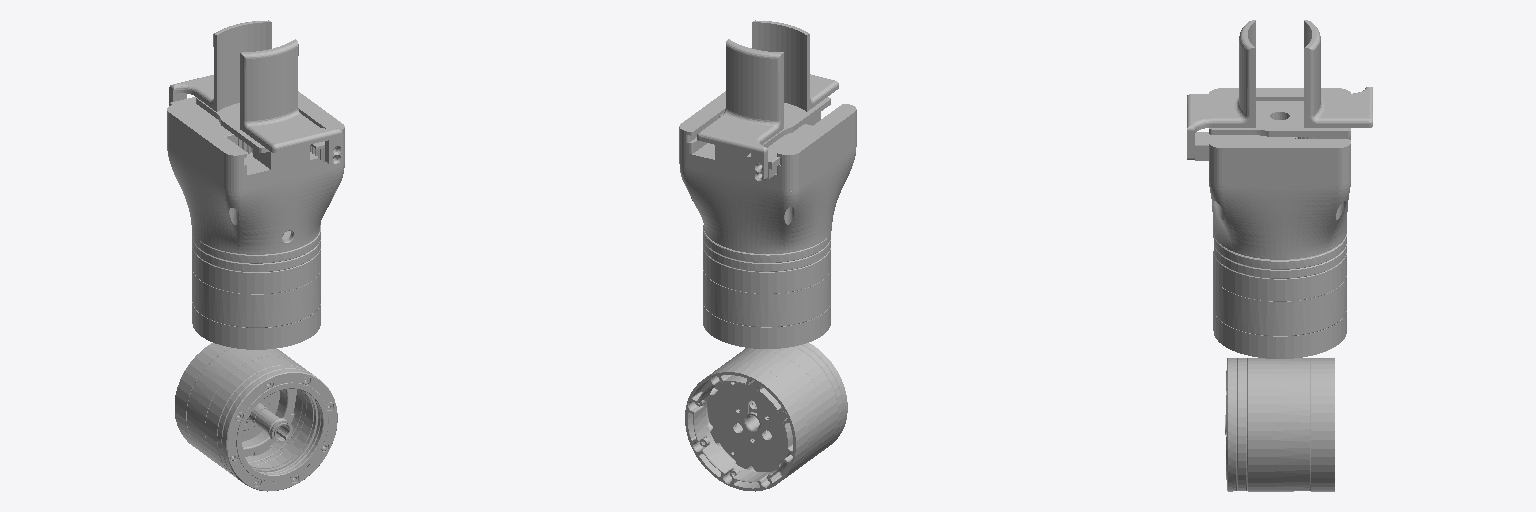
robot.urdf — igus_rebel:
<?xml version="1.0" encoding="utf-8"?>
<robot
  name="igus_rebel">
  <!-- file://$(find igus_rebel_description) ===>>> package:// -->
  <link
    name="base_link">
    <inertial>
      <origin
        xyz="-0.0011101 -0.00059494 0.040917"
        rpy="0 0 0" />
      <mass
        value="4.2944" />
      <inertia
        ixx="0.098117"
        ixy="4.4465E-07"
        ixz="3.3605E-05"
        iyy="0.086593"
        iyz="-1.8837E-06"
        izz="0.12838" />
    </inertial>
    <visual>
      <origin
        xyz="0 0 0"
        rpy="0 0 0" />
      <geometry>
        <mesh
          filename="package://igus_rebel_description/meshes/base_link.dae" />
      </geometry>
      <material
        name="">
        <color
          rgba="0.75294 0.75294 0.75294 1" />
      </material>
    </visual>
    <collision>
      <origin
        xyz="0 0 0.05"
        rpy="0 0 0" />
      <geometry>
        <cylinder radius="0.09" length="0.1"/>
      </geometry>
    </collision>
  </link>
  <link
    name="motor1">
    <inertial>
      <origin
        xyz="0.00015243 0.00010812 -0.014668"
        rpy="0 0 0" />
      <mass
        value="2" />
      <inertia
        ixx="0.024041"
        ixy="8.3398E-08"
        ixz="-7.2533E-07"
        iyy="0.024081"
        iyz="-6.2967E-07"
        izz="0.037427" />
    </inertial>
    <visual>
      <origin
        xyz="0 0 0"
        rpy="0 0 0" />
      <geometry>
        <mesh
          filename="package://igus_rebel_description/meshes/motor1.dae" />
      </geometry>
      <material
        name="">
        <color
          rgba="0.75294 0.75294 0.75294 1" />
      </material>
    </visual>
    <collision>
      <origin
        xyz="0 0 -0.0125"
        rpy="0 0 0" />
      <geometry>
        <cylinder radius="0.05" length="0.065"/>
      </geometry>
    </collision>
  </link>
  <joint
    name="J_motor1"
    type="fixed">
    <origin
      xyz="0 0 0.1462"
      rpy="0 0 3.1416" />
    <parent
      link="base_link" />
    <child
      link="motor1" />
    <axis
      xyz="0 0 0" />
  </joint>
  <link
    name="link1">
    <inertial>
      <origin
        xyz="2.5064E-06 -0.031151 0.06301"
        rpy="0 0 0" />
      <mass
        value="1.9246" />
      <inertia
        ixx="0.046865"
        ixy="-3.7969E-09"
        ixz="5.1665E-09"
        iyy="0.04904"
        iyz="0.00010721"
        izz="0.030611" />
    </inertial>
    <visual>
      <origin
        xyz="0 0 0"
        rpy="0 0 0" />
      <geometry>
        <mesh
          filename="package://igus_rebel_description/meshes/link1.dae" />
      </geometry>
      <material
        name="">
        <color
          rgba="0.79216 0.81961 0.93333 1" />
      </material>
    </visual>
    <collision>
      <origin
        xyz="0 -0.045 0.08"
        rpy="0 0 0" />
      <geometry>
        <box size="0.1 0.03 0.1"/>
      </geometry>
    </collision>
  </link>
  <joint
    name="joint1"
    type="revolute">
    <origin
      xyz="0 0 0"
      rpy="0 0 0" />
    <parent
      link="motor1" />
    <child
      link="link1" />
    <axis
      xyz="0 0 1" />
    <limit
      lower="-3.1241"
      upper="3.1241"
      effort="330"
      velocity="2.16" />
    <dynamics
      damping="0.0"
      friction="0.0" />
  </joint>
  <link
    name="motor2">
    <inertial>
      <origin
        xyz="0.00015243 0.014668 0.00010812"
        rpy="0 0 0" />
      <mass
        value="2" />
      <inertia
        ixx="0.024041"
        ixy="7.2533E-07"
        ixz="8.3398E-08"
        iyy="0.037427"
        iyz="6.2967E-07"
        izz="0.024081" />
    </inertial>
    <visual>
      <origin
        xyz="0 0 0"
        rpy="0 0 0" />
      <geometry>
        <mesh
          filename="package://igus_rebel_description/meshes/motor2.dae" />
      </geometry>
      <material
        name="">
        <color
          rgba="0.75294 0.75294 0.75294 1" />
      </material>
    </visual>
    <collision>
      <origin
        xyz="0 0.0125 0"
        rpy="1.57079 0 0" />
      <geometry>
        <cylinder radius="0.05" length="0.065"/>
      </geometry>
    </collision>
  </link>
  <joint
    name="J_motor2"
    type="fixed">
    <origin
      xyz="0 -0.0225000000000001 0.106"
      rpy="0 0 0" />
    <parent
      link="link1" />
    <child
      link="motor2" />
    <axis
      xyz="0 0 0" />
  </joint>
  <link
    name="link2">
    <inertial>
      <origin
        xyz="0.023424 0.025337 0.10782"
        rpy="0 0 0" />
      <mass
        value="5.689" />
      <inertia
        ixx="0.1162"
        ixy="-2.0164E-11"
        ixz="-0.00018569"
        iyy="0.10155"
        iyz="5.9595E-10"
        izz="0.08965" />
    </inertial>
    <visual>
      <origin
        xyz="0 0 0"
        rpy="0 0 0" />
      <geometry>
        <mesh
          filename="package://igus_rebel_description/meshes/link2.dae" />
      </geometry>
      <material
        name="">
        <color
          rgba="0.75294 0.75294 0.75294 1" />
      </material>
    </visual>
    <collision>
      <origin
        xyz="0.05 -0.025 0.12"
        rpy="0 0 0" />
      <geometry>
        <cylinder radius="0.06" length="0.18"/>
      </geometry>
    </collision>
  </link>
  <joint
    name="joint2"
    type="revolute">
    <origin
      xyz="0 0.049 0"
      rpy="0 0 0" />
    <parent
      link="motor2" />
    <child
      link="link2" />
    <axis
      xyz="0 -1 0" />
    <limit
      lower="-1.4835"
      upper="2.4435"
      effort="330"
      velocity="2.16" />
    <dynamics
      damping="0.0"
      friction="0.0" />
  </joint>
  <link
    name="motor3">
    <inertial>
      <origin
        xyz="0.00015243 0.014668 0.00010812"
        rpy="0 0 0" />
      <mass
        value="2.0785" />
      <inertia
        ixx="0.024041"
        ixy="7.2533E-07"
        ixz="8.3398E-08"
        iyy="0.037427"
        iyz="6.2967E-07"
        izz="0.024081" />
    </inertial>
    <visual>
      <origin
        xyz="0 0 0"
        rpy="0 0 0" />
      <geometry>
        <mesh
          filename="package://igus_rebel_description/meshes/motor3.dae" />
      </geometry>
      <material
        name="">
        <color
          rgba="0.75294 0.75294 0.75294 1" />
      </material>
    </visual>
    <collision>
      <origin
        xyz="0 0.0125 0"
        rpy="1.57079 0 0" />
      <geometry>
        <cylinder radius="0.05" length="0.065"/>
      </geometry>
    </collision>
  </link>
  <joint
    name="J_motor3"
    type="fixed">
    <origin
      xyz="0 -0.049 0.24152"
      rpy="0 0 0" />
    <parent
      link="link2" />
    <child
      link="motor3" />
    <axis
      xyz="0 0 0" />
  </joint>
  <link
    name="link3">
    <inertial>
      <origin
        xyz="1.8683E-06 0.030601 0.032537"
        rpy="0 0 0" />
      <mass
        value="2.5429" />
      <inertia
        ixx="0.051458"
        ixy="3.7774E-09"
        ixz="-4.5694E-09"
        iyy="0.057983"
        iyz="0.00010721"
        izz="0.035205" />
    </inertial>
    <visual>
      <origin
        xyz="0 0 0"
        rpy="0 0 0" />
      <geometry>
        <mesh
          filename="package://igus_rebel_description/meshes/link3.dae" />
      </geometry>
      <material
        name="">
        <color
          rgba="0.75294 0.75294 0.75294 1" />
      </material>
    </visual>
    <collision>
      <origin
        xyz="0 0.045 0.03"
        rpy="0 0 0" />
      <geometry>
        <box size="0.1 0.03 0.1"/>
      </geometry>
    </collision>
  </link>
  <joint
    name="joint3"
    type="revolute">
    <origin
      xyz="0 0.0225 0"
      rpy="0 0 0" />
    <parent
      link="motor3" />
    <child
      link="link3" />
    <axis
      xyz="0 -1 0" />
    <limit
      lower="-1.39626"
      upper="2.61799"
      effort="330"
      velocity="2.16" />
    <dynamics
      damping="0.0"
      friction="0.0" />
  </joint>
  <link
    name="motor4">
    <inertial>
      <origin
        xyz="0.00015243 -0.00010812 0.014668"
        rpy="0 0 0" />
      <mass
        value="2.0785" />
      <inertia
        ixx="0.024041"
        ixy="-8.3398E-08"
        ixz="7.2533E-07"
        iyy="0.024081"
        iyz="-6.2967E-07"
        izz="0.037427" />
    </inertial>
    <visual>
      <origin
        xyz="0 0 0"
        rpy="0 0 0" />
      <geometry>
        <mesh
          filename="package://igus_rebel_description/meshes/motor4.dae" />
      </geometry>
      <material
        name="">
        <color
          rgba="0.75294 0.75294 0.75294 1" />
      </material>
    </visual>
    <collision>
      <origin
        xyz="0 0 0.0125"
        rpy="0 0 0" />
      <geometry>
        <cylinder radius="0.05" length="0.065"/>
      </geometry>
    </collision>
  </link>
  <joint
    name="J_motor4"
    type="fixed">
    <origin
      xyz="0.0013449814287804 0 0.105479407401356"
      rpy="0 0 0" />
    <parent
      link="link3" />
    <child
      link="motor4" />
    <axis
      xyz="0 0 0" />
  </joint>
  <link
    name="link4">
    <inertial>
      <origin
        xyz="-0.0070458 -0.00089773 0.05185"
        rpy="0 0 0" />
      <mass
        value="2.2059" />
      <inertia
        ixx="0.02402"
        ixy="1.096E-07"
        ixz="2.3983E-05"
        iyy="0.025662"
        iyz="-1.1343E-06"
        izz="0.030673" />
    </inertial>
    <visual>
      <origin
        xyz="0 0 0"
        rpy="0 0 0" />
      <geometry>
        <mesh
          filename="package://igus_rebel_description/meshes/link4.dae" />
      </geometry>
      <material
        name="">
        <color
          rgba="0.75294 0.75294 0.75294 1" />
      </material>
    </visual>
    <collision>
      <origin
        xyz="0 0 0.044"
        rpy="0 0 0" />
      <geometry>
        <cylinder radius="0.05" length="0.1"/>
      </geometry>
    </collision>
  </link>
  <joint
    name="joint4"
    type="revolute">
    <origin
      xyz="0 0 0.052"
      rpy="0 0 0" />
    <parent
      link="motor4" />
    <child
      link="link4" />
    <axis
      xyz="0 0 1" />
    <limit
      lower="-3.12414"
      upper="3.12414"
      effort="330"
      velocity="2.16" />
    <dynamics
      damping="0.0"
      friction="0.0" />
  </joint>
  <link
    name="motor5">
    <inertial>
      <origin
        xyz="3.9518E-05 0.02054 -0.00015792"
        rpy="0 0 0" />
      <mass
        value="1.3011" />
      <inertia
        ixx="0.010922"
        ixy="3.1358E-08"
        ixz="1.683E-08"
        iyy="0.014448"
        iyz="-3.8659E-08"
        izz="0.010868" />
    </inertial>
    <visual>
      <origin
        xyz="0 0 0"
        rpy="0 0 0" />
      <geometry>
        <mesh
          filename="package://igus_rebel_description/meshes/motor5.dae" />
      </geometry>
      <material
        name="">
        <color
          rgba="0.75294 0.75294 0.75294 1" />
      </material>
    </visual>
    <collision>
      <origin
        xyz="0 0.0125 0"
        rpy="1.57079 0 0" />
      <geometry>
        <cylinder radius="0.04" length="0.065"/>
      </geometry>
    </collision>
  </link>
  <joint
    name="J_motor5"
    type="fixed">
    <origin
      xyz="0 -0.0182 0.142"
      rpy="0 0 0" />
    <parent
      link="link4" />
    <child
      link="motor5" />
    <axis
      xyz="0 0 0" />
  </joint>
  <link
    name="link5">
    <inertial>
      <origin
        xyz="7.5874E-05 0.022847 0.026585"
        rpy="0 0 0" />
      <mass
        value="0.70922" />
      <inertia
        ixx="0.0091752"
        ixy="-5.1443E-08"
        ixz="-7.751E-09"
        iyy="0.0086093"
        iyz="2.4553E-05"
        izz="0.0079966" />
    </inertial>
    <visual>
      <origin
        xyz="0 0 0"
        rpy="0 0 0" />
      <geometry>
        <mesh
          filename="package://igus_rebel_description/meshes/link5.dae" />
      </geometry>
      <material
        name="">
        <color
          rgba="0.75294 0.75294 0.75294 1" />
      </material>
    </visual>
    <collision>
      <origin
        xyz="0 0.045 0.01"
        rpy="0 0 0" />
      <geometry>
        <box size="0.1 0.03 0.1"/>
      </geometry>
    </collision>
  </link>
  <joint
    name="joint5"
    type="revolute">
    <origin
      xyz="0 0.0182 0"
      rpy="0 0 0" />
    <parent
      link="motor5" />
    <child
      link="link5" />
    <axis
      xyz="0 -1 0" />
    <limit
      lower="-1.65806"
      upper="1.65806"
      effort="330"
      velocity="2.16" />
    <dynamics
      damping="0.0"
      friction="0.0" />
  </joint>
  <link
    name="link6">
    <inertial>
      <origin
        xyz="-0.00016088 -4.7449E-05 0.021219"
        rpy="0 0 0" />
      <mass
        value="1.2658" />
      <inertia
        ixx="0.010763"
        ixy="-2.2861E-07"
        ixz="-4.9144E-08"
        iyy="0.010792"
        iyz="-2.2502E-08"
        izz="0.014496" />
    </inertial>
    <visual>
      <origin
        xyz="0 0 0"
        rpy="0 0 0" />
      <geometry>
        <mesh
          filename="package://igus_rebel_description/meshes/link6.dae" />
      </geometry>
      <material
        name="">
        <color
          rgba="0.75294 0.75294 0.75294 1" />
      </material>
    </visual>
    <collision>
      <origin
        xyz="0 0 0.0125"
        rpy="0 0 0" />
      <geometry>
        <cylinder radius="0.04" length="0.065"/>
      </geometry>
    </collision>
  </link>
  <joint
    name="joint6"
    type="revolute">
    <origin
      xyz="0 0 0.0768"
      rpy="0 0 0" />
    <parent
      link="link5" />
    <child
      link="link6" />
    <axis
      xyz="0 0 1" />
    <limit
      lower="-3.12414"
      upper="3.12414"
      effort="330"
      velocity="2.16" />
    <dynamics
      damping="0.0"
      friction="0.0" />
  </joint>

    <!-- GRIPPER -->
    
    <link
    name="gripper_base">
        <inertial>
            <origin
        xyz="0 0 0"
        rpy="0 0 0" />
            <!-- TODO CHECK ACTUAL MASS AND INERTIA STATS !! -->
            <mass
        value="0.500" />
            <inertia
        ixx="0.010763"
        ixy="-2.2861E-07"
        ixz="-4.9144E-08"
        iyy="0.010792"
        iyz="-2.2502E-08"
        izz="0.014496" />
        </inertial>
        <visual>
            <origin
        xyz="0.003 -0.007 -0.007"
        rpy="0 0 0" />
            <geometry>
                <mesh
          filename="package://igus_rebel_description/meshes/Greifer_Baugruppe.stl" scale="0.001 0.001 0.001" />
            </geometry>
            <material
        name="">
                <color
          rgba="0.75294 0.75294 0.75294 1" />
            </material>
        </visual>
        <collision>
            <origin
        xyz="0 0 -0.023"
        rpy="0 0 0" />
            <geometry>
                <box size="0.1 0.13 0.08"></box>
            </geometry>
        </collision>
    </link>
    <joint
    name="greifer_fixed_joint"
    type="fixed">
    <!-- origin z = 5 cm von link6 und hälfte der 14 cm greifer -->
        <origin
      xyz="0 0 0.12" 
      rpy="0 0 0" />
        <parent
      link="link6" />
        <child
      link="gripper_base" />
        <axis
      xyz="0 0 1" />
        <limit
      lower="-3.12414"
      upper="3.12414"
      effort="330"
      velocity="2.16" />
        <dynamics
      damping="0.0"
      friction="0.0" />
    </joint>
   <link
    name="gripper_left">
        <inertial>
            <origin
        xyz="0 0 0"
        rpy="0 0 0" />
            <!-- TODO CHECK ACTUAL MASS AND INERTIA STATS !! -->
            <mass
        value="0.050" />
            <inertia
        ixx="0.010763"
        ixy="-2.2861E-07"
        ixz="-4.9144E-08"
        iyy="0.010792"
        iyz="-2.2502E-08"
        izz="0.014496" />
        </inertial>
        <collision>
            <origin
        xyz="0 0 0.0065"
        rpy="0 0 0" />
            <geometry>
                <box size="0.04 0.01 0.03"></box>
            </geometry>
        </collision>
    </link>
    <joint
    name="gripper_l_joint"
    type="prismatic">
    <!-- origin z = 5 cm von link6 und hälfte der 14 cm greifer -->
        <origin
      xyz="0 0.02 0.04" 
      rpy="0 0 0" />
        <parent
      link="gripper_base" />
        <child
      link="gripper_left" />
        <axis
      xyz="0 -1 0" />
        <limit
      lower="-3.12414"
      upper="3.12414"
      effort="330"
      velocity="2.16" />
        <dynamics
      damping="0.0"
      friction="0.0" />
    </joint>
     <link
    name="gripper_right">
        <inertial>
            <origin
        xyz="0 0 0"
        rpy="0 0 0" />
            <!-- TODO CHECK ACTUAL MASS AND INERTIA STATS !! -->
            <mass
        value="0.050" />
            <inertia
        ixx="0.010763"
        ixy="-2.2861E-07"
        ixz="-4.9144E-08"
        iyy="0.010792"
        iyz="-2.2502E-08"
        izz="0.014496" />
        </inertial>
        <collision>
            <origin
        xyz="0 0 0.0065"
        rpy="0 0 0" />
            <geometry>
                <box size="0.04 0.01 0.03"></box>
            </geometry>
        </collision>
    </link>
    <joint
    name="gripper_r_joint"
    type="prismatic">
    <!-- origin z = 5 cm von link6 und hälfte der 14 cm greifer -->
        <origin
      xyz="0 -0.02 0.04" 
      rpy="0 0 0" />
        <parent
      link="gripper_base" />
        <child
      link="gripper_right" />
        <axis
      xyz="0 1 0" />
        <limit
      lower="-3.12414"
      upper="3.12414"
      effort="330"
      velocity="2.16" />
        <dynamics
      damping="0.0"
      friction="0.0" />
    </joint>
</robot>

--- Render facts (derived) ---
The picture shows the robot from 3 angles, left to right: view 1: azimuth 30°, elevation 25°; view 2: azimuth 150°, elevation 25°; view 3: azimuth 270°, elevation 25°; orthographic projection.
Model igus_rebel with 15 links and 14 joints (6 revolute, 2 prismatic, 6 fixed), rooted at base_link, posed every joint at zero.
Visible links, largest first — view 1: gripper_base, motor5, link6; view 2: gripper_base, motor5, link6; view 3: gripper_base, motor5, link6.
Link boxes in pixels (x1,y1,x2,y2): gripper_base: [167, 20, 344, 254]; motor5: [175, 343, 337, 491]; link6: [192, 225, 320, 349]; gripper_base: [679, 20, 856, 253]; motor5: [685, 343, 847, 491]; link6: [703, 225, 830, 348]; gripper_base: [1187, 20, 1372, 259]; motor5: [1225, 358, 1334, 491]; link6: [1213, 234, 1346, 358].
Size in the robot's own frame: 0.085 by 0.1119 by 0.2976 metres.
Meshes: 13 distinct files referenced, 3 mesh visuals loaded (1 binary STL, 2 Collada DAE); not drawn: 10 (reference not matched to a file when rendering).